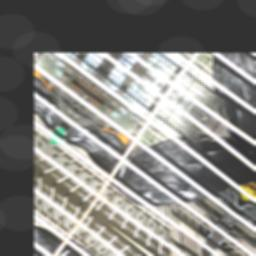Crow: (56, 55, 256, 255)
